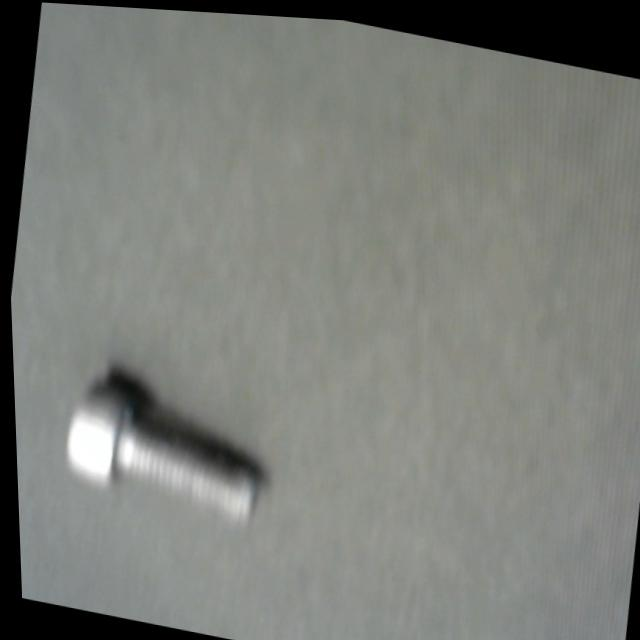SocketHeadCapScrew: (55, 356, 276, 529)
